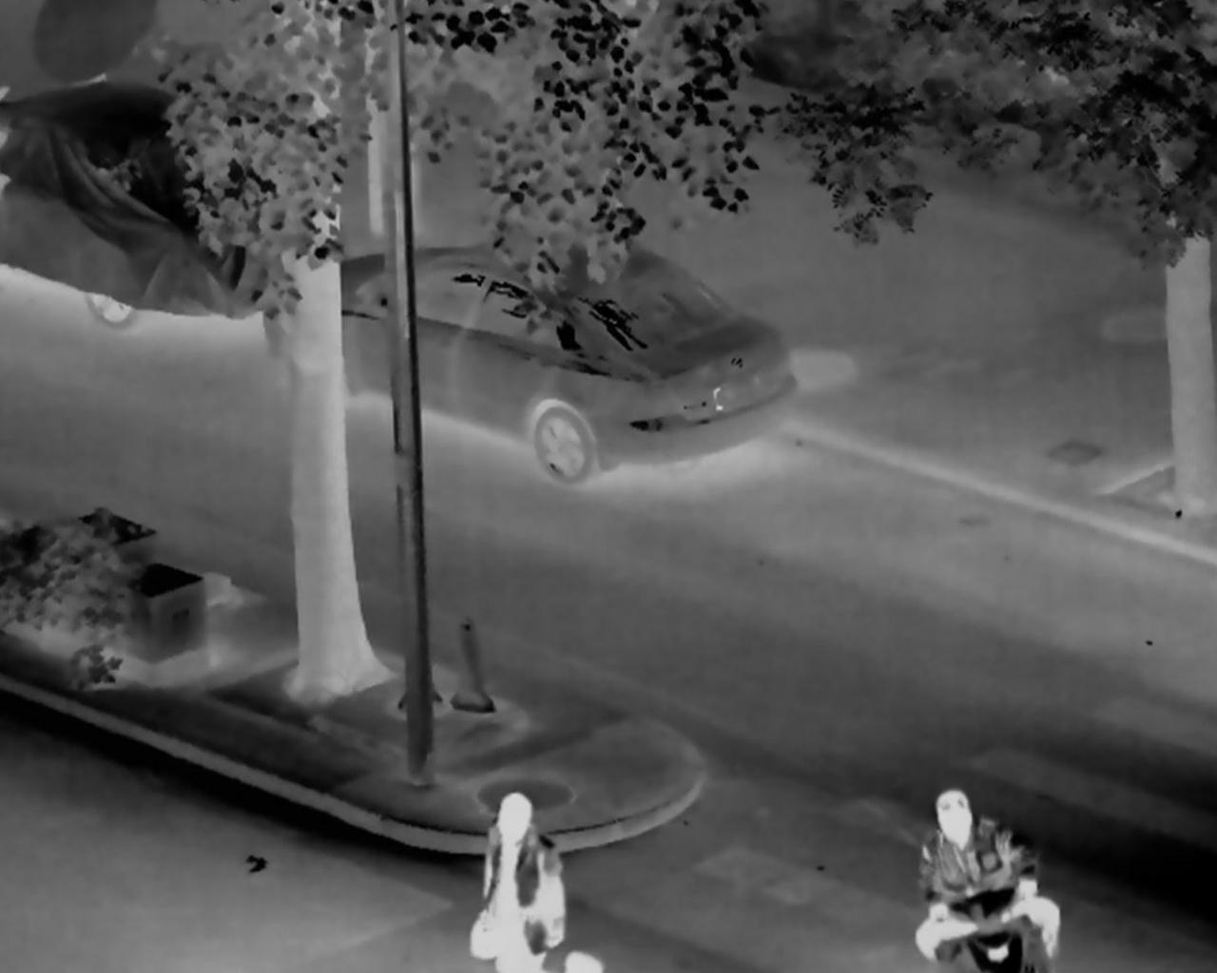person: (916, 790, 1062, 971), (476, 792, 567, 973)
